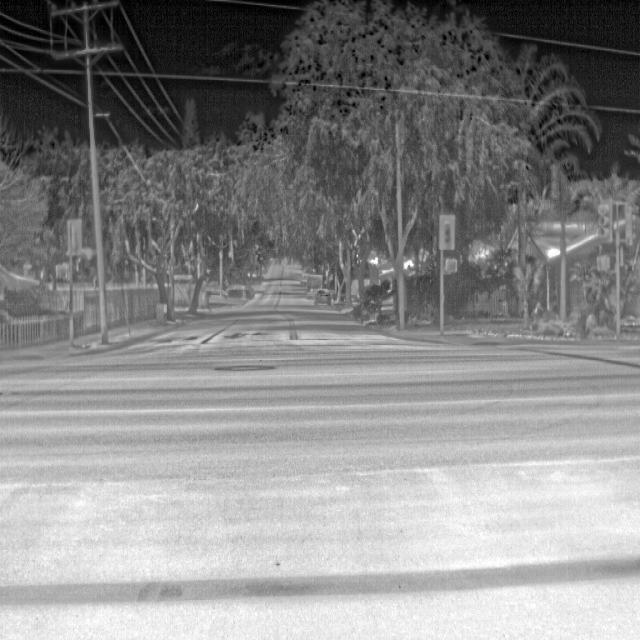Vehicle: (313, 288, 333, 307)
